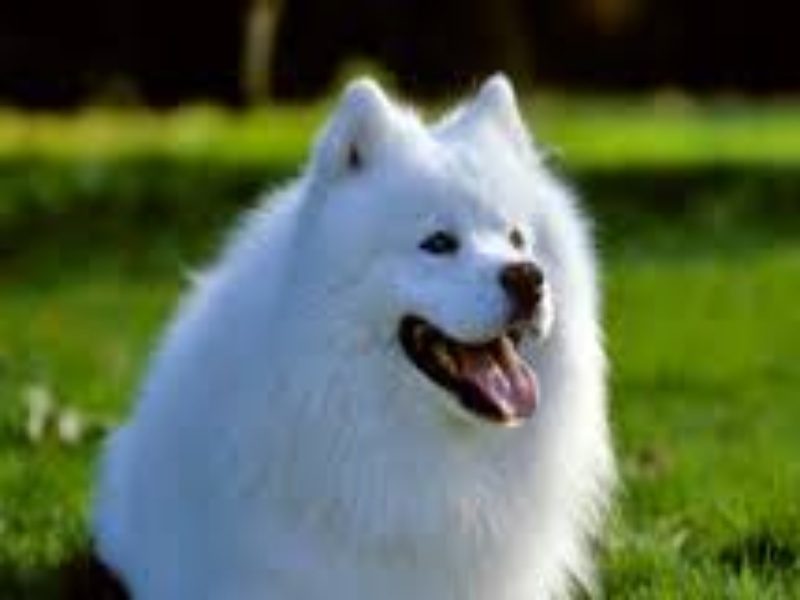dog: (85, 68, 627, 600)
